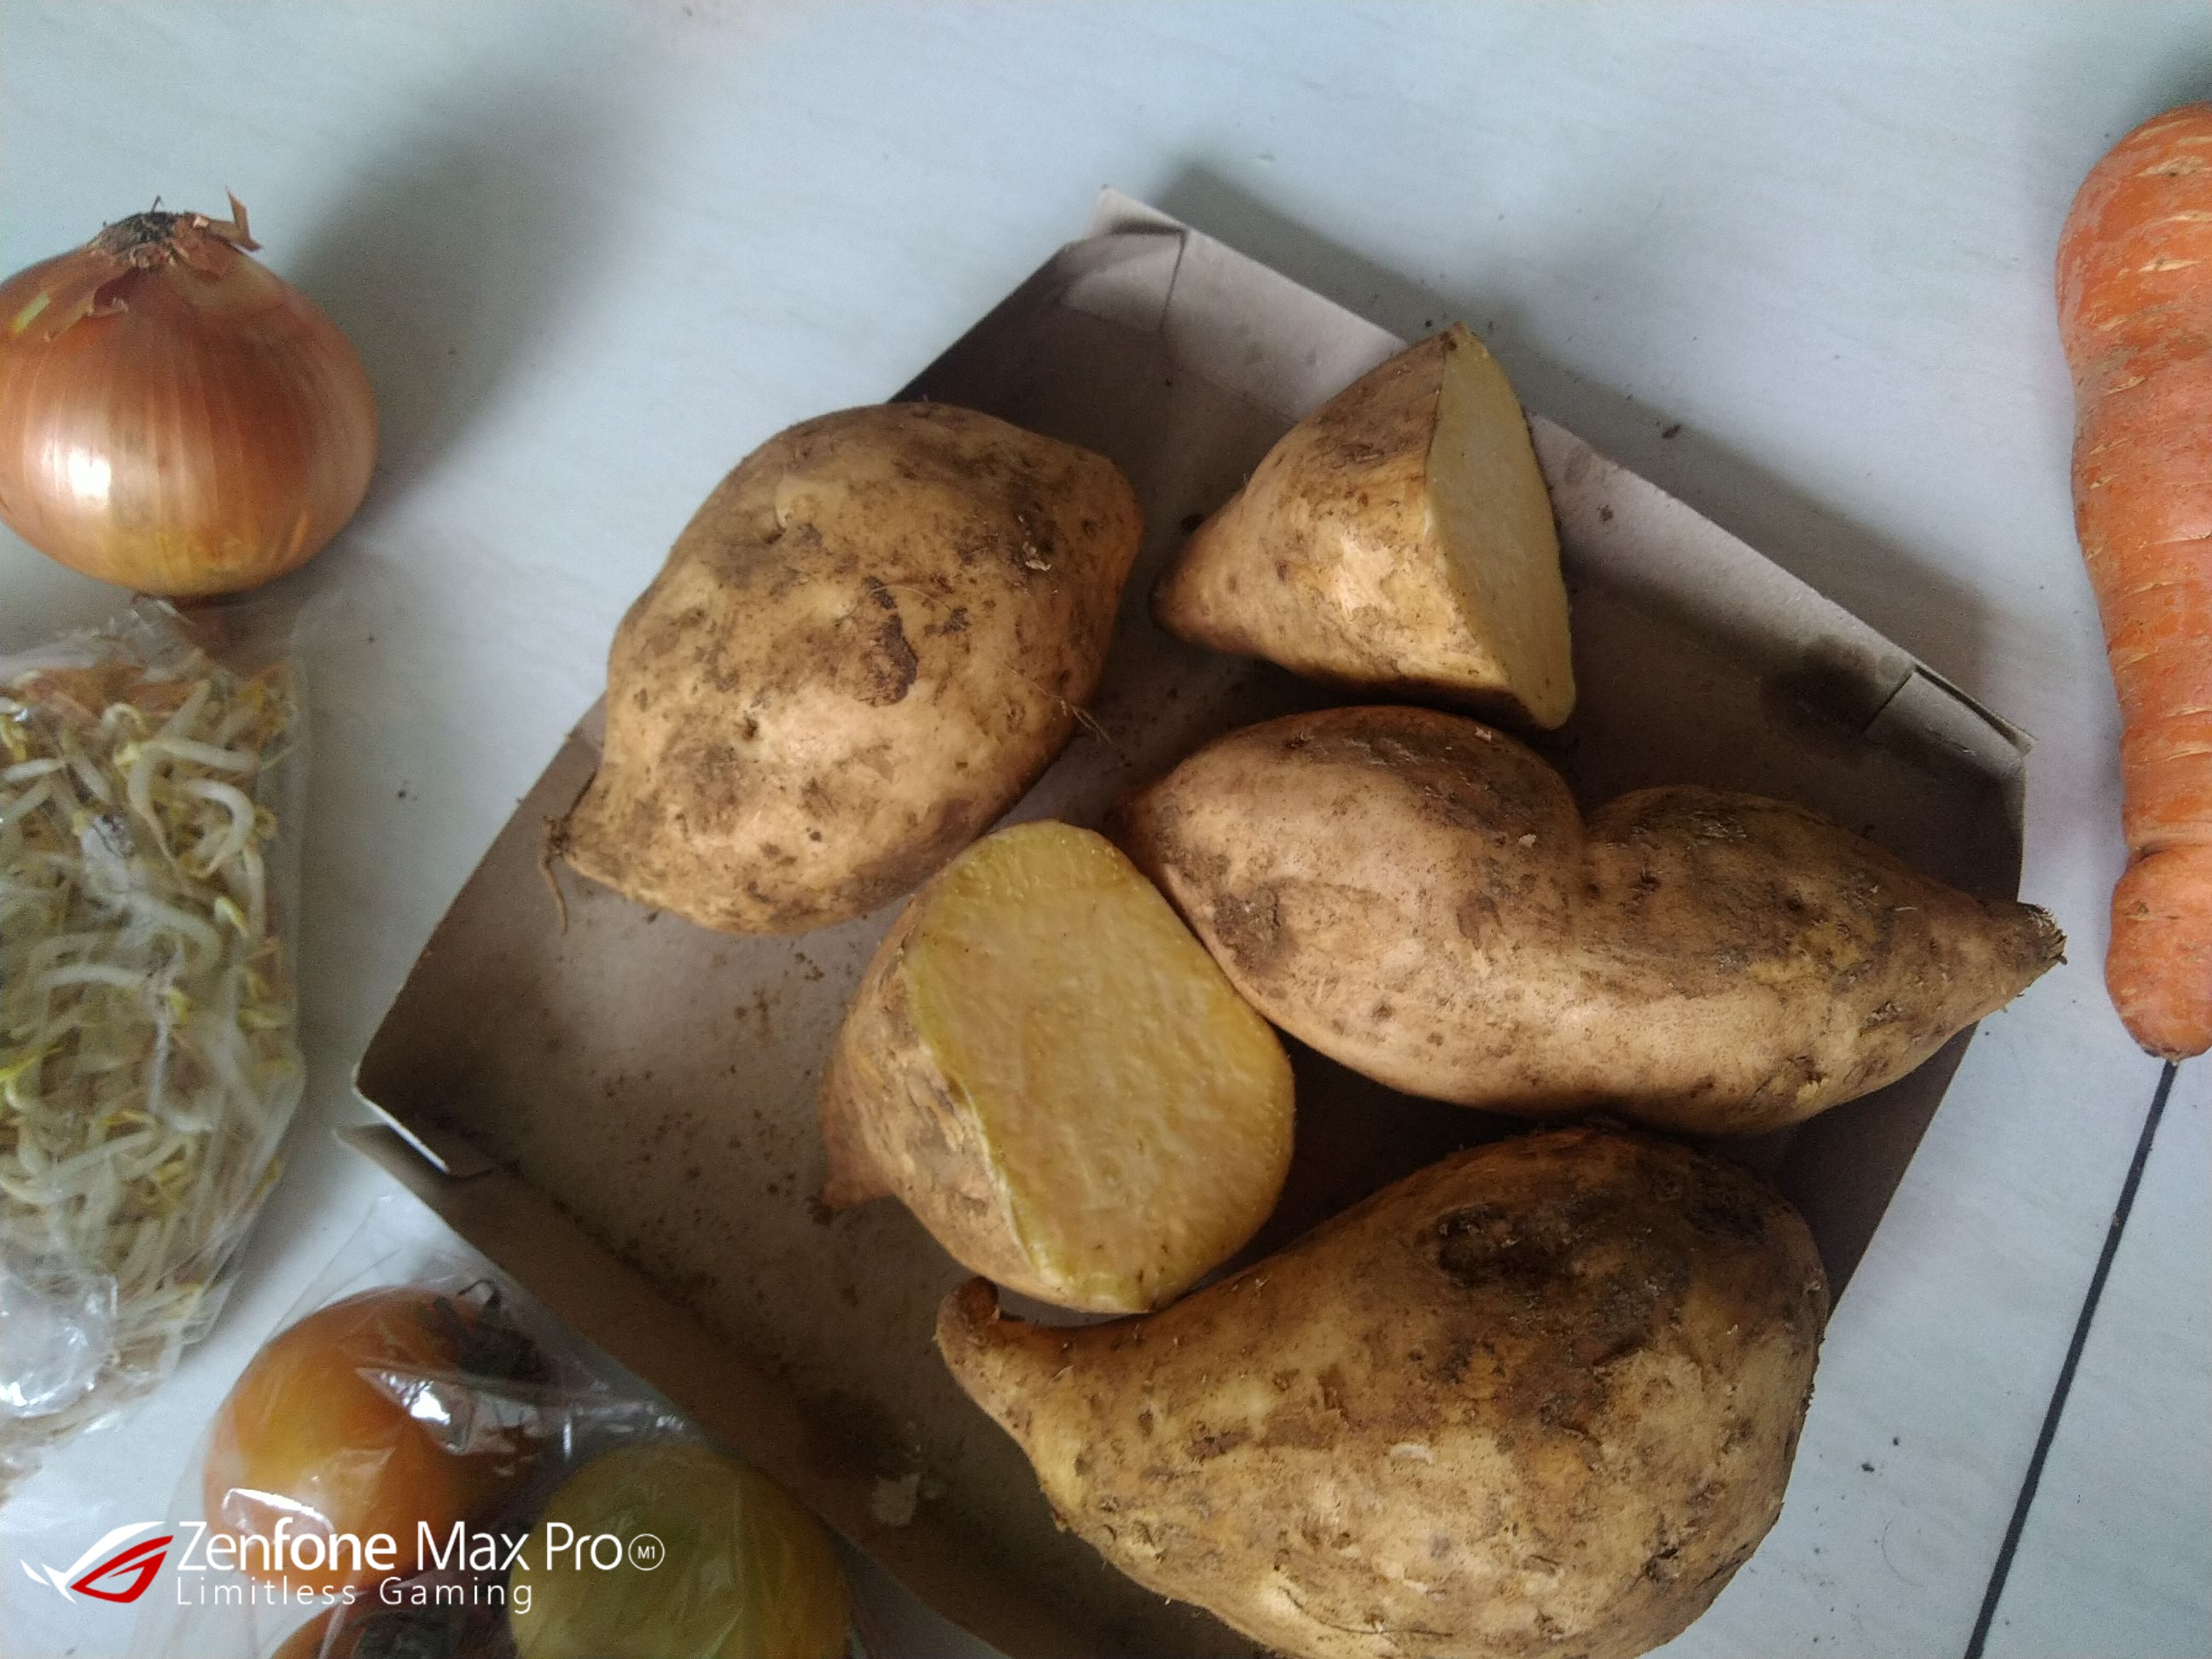ubi kuning: (928, 1122, 1930, 1643), (1104, 690, 2074, 1131), (531, 389, 1148, 946), (798, 814, 1310, 1309), (1163, 322, 1599, 728)
